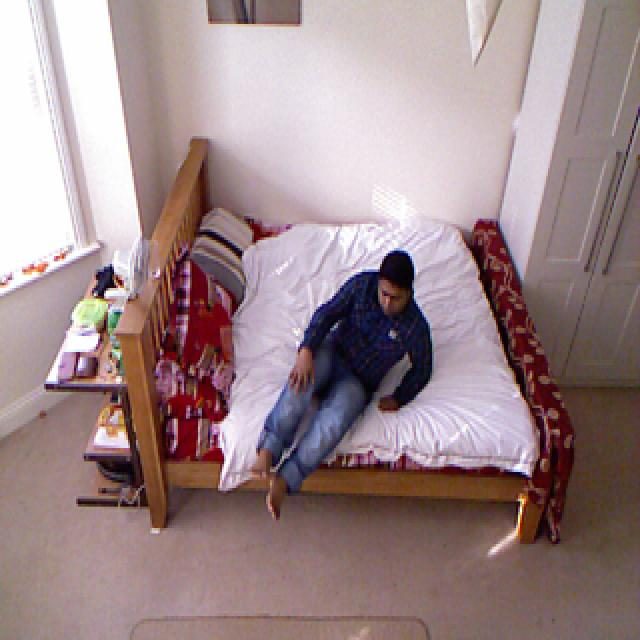sitting: (250, 248, 437, 525)
